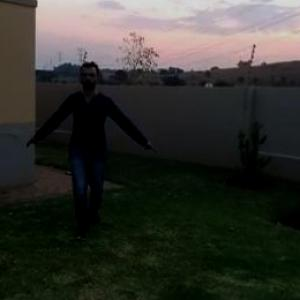land: (39, 66, 151, 209)
